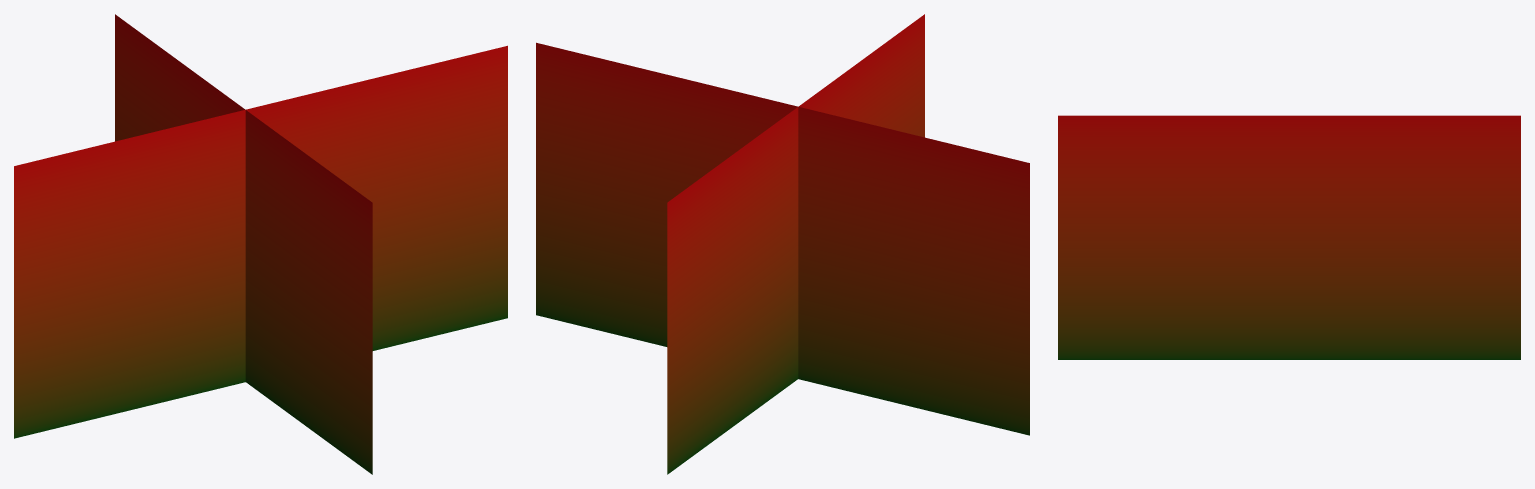
File: Ribbon Plant_LOD5_Var3_rhDrj.fbx
3 renders of one model, left to right at view 1: azimuth 30°, elevation 25°; view 2: azimuth 150°, elevation 25°; view 3: azimuth 270°, elevation 25°, orthographic. The views are drawn at different scales.
Parts seen in each view (by area): view 1: _97b3_Var3_LOD5; view 2: _97b3_Var3_LOD5; view 3: _97b3_Var3_LOD5.
Boxes of the visible parts, x1,y1,x2,y2 form: _97b3_Var3_LOD5: (14, 14, 507, 474); _97b3_Var3_LOD5: (536, 14, 1029, 474); _97b3_Var3_LOD5: (1058, 115, 1520, 359).
Size of the model in its own units: 58.53 by 30.85 by 52.91.
